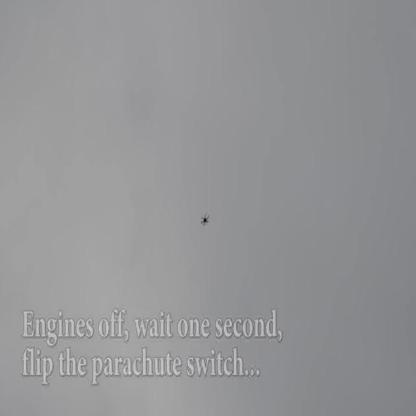drone: (199, 209, 210, 228)
